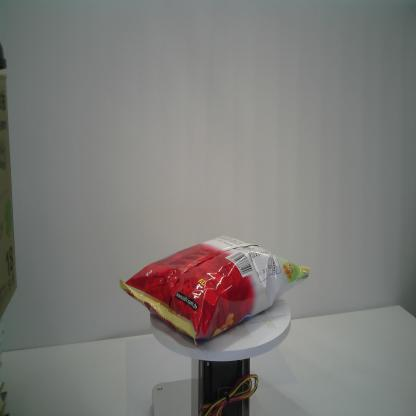Puffed Food: (119, 234, 311, 347)
